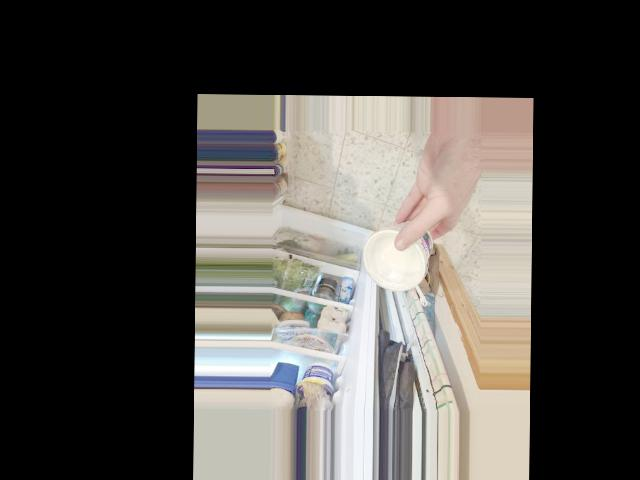cotage: (361, 215, 442, 294)
